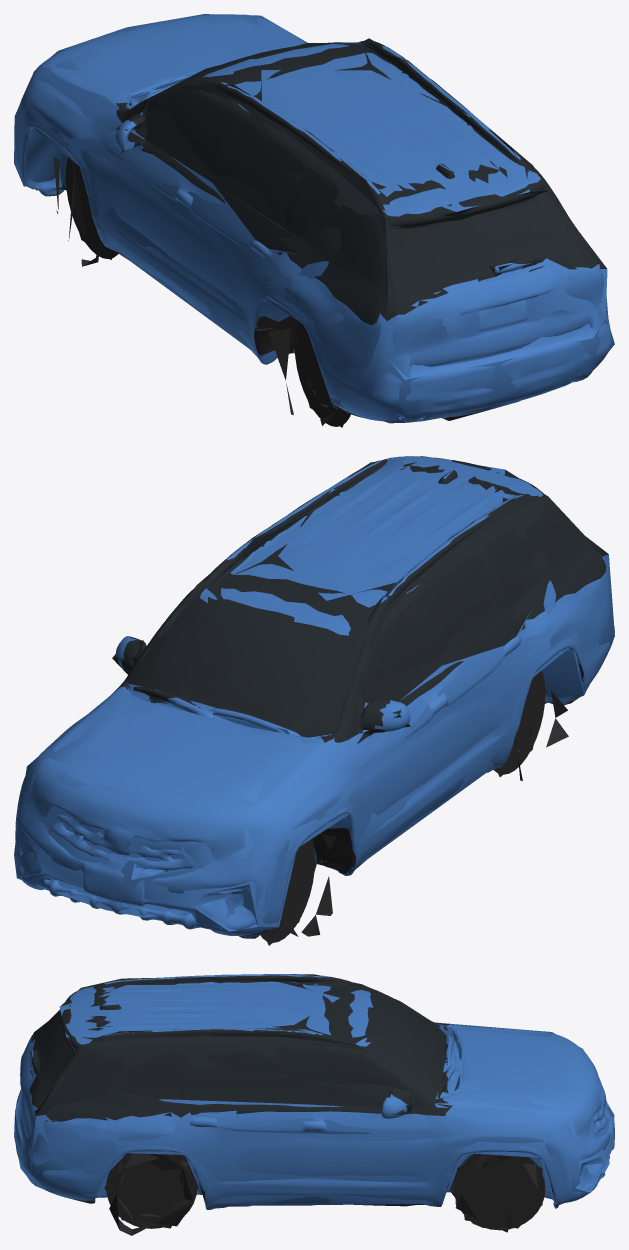
Rendered from volkswagen-atlas.glb.
3 renders of one model, top to bottom at view 1: azimuth 30°, elevation 25°; view 2: azimuth 150°, elevation 25°; view 3: azimuth 270°, elevation 25°, orthographic. The views are drawn at different scales.
Visible parts, largest first — view 1: body, far; view 2: body, far; view 3: body, far.
Boxes of the visible parts, x1,y1,x2,y2 form: body: (14,14,611,426); far: (14,14,614,427); body: (15,456,614,942); far: (14,456,614,945); body: (15,974,614,1235); far: (14,974,614,1232).
Size of the model in its own units: 2.16 by 1.85 by 5.15.
